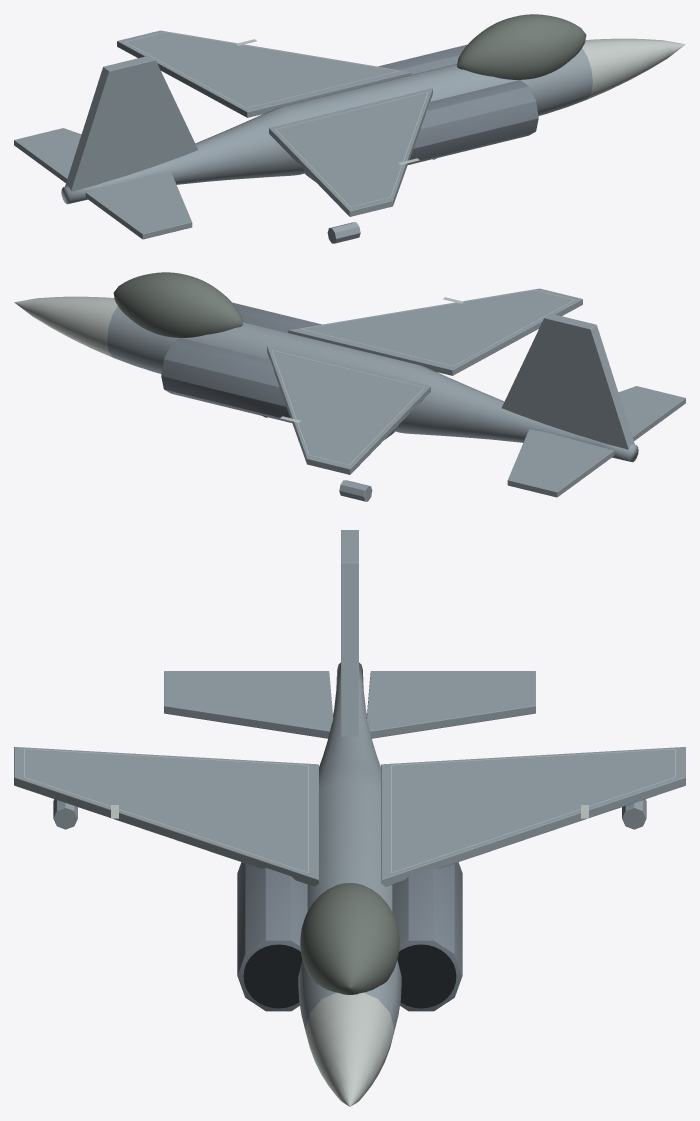
File: usmc_fighter_av8b.glb
The picture shows the model from 3 angles, top to bottom: view 1: azimuth 30°, elevation 25°; view 2: azimuth 150°, elevation 25°; view 3: azimuth 270°, elevation 25°; orthographic projection. The views are drawn at different scales.
Parts seen in each view (by area): view 1: usmc_fighter_av8b; view 2: usmc_fighter_av8b; view 3: usmc_fighter_av8b.
Part boxes in pixels (x1,y1,x2,y2): usmc_fighter_av8b: (14, 14, 685, 243); usmc_fighter_av8b: (14, 272, 685, 501); usmc_fighter_av8b: (14, 530, 685, 1106).
Bounding box in the file's own units: 10 × 2.29 × 6.5.
